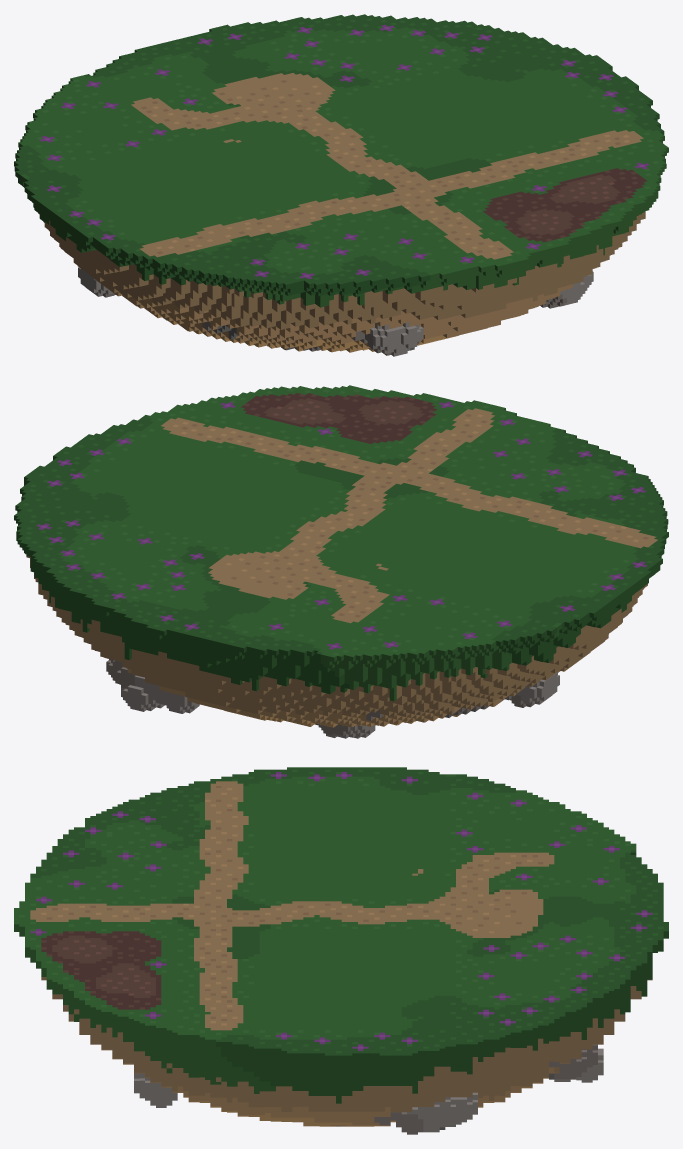
Rendered from granjafinal_isla.obj.
3 renders of one model, top to bottom at view 1: azimuth 30°, elevation 25°; view 2: azimuth 150°, elevation 25°; view 3: azimuth 270°, elevation 25°, orthographic. The views are drawn at different scales.
Bounding box in the file's own units: 12.5 × 3.2 × 12.
Materials: 1 (1 with a texture image).
